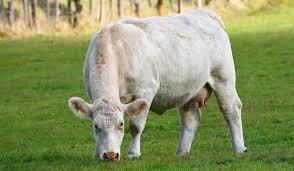cow: (68, 8, 247, 162)
